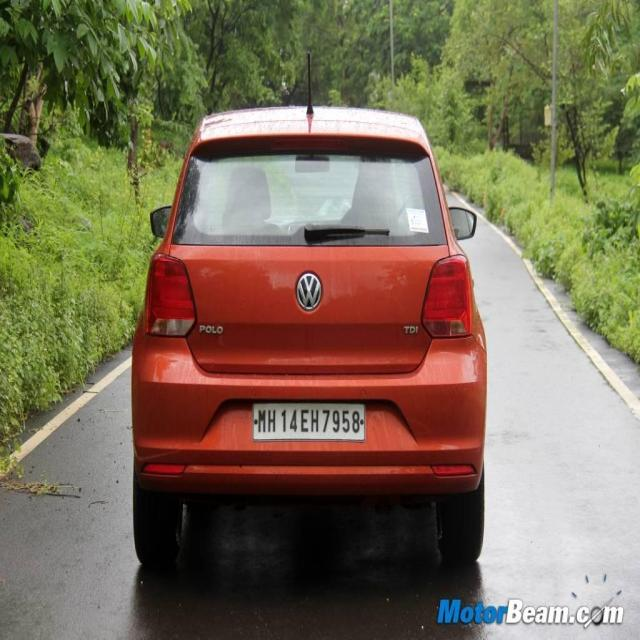number_plate: (252, 402, 365, 438)
